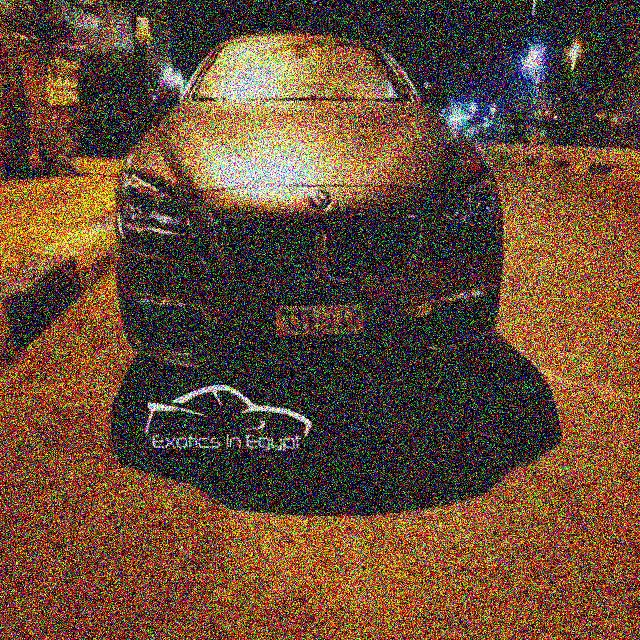License Plate: (273, 282, 368, 340)
